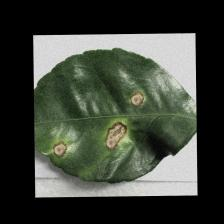canker: (32, 83, 160, 164)
